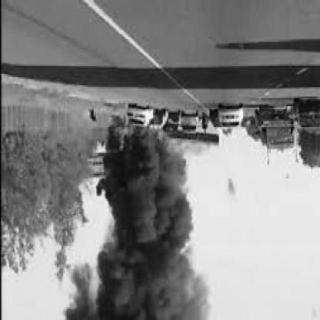Fire: (102, 108, 190, 170)
Smoke: (51, 156, 218, 320)
